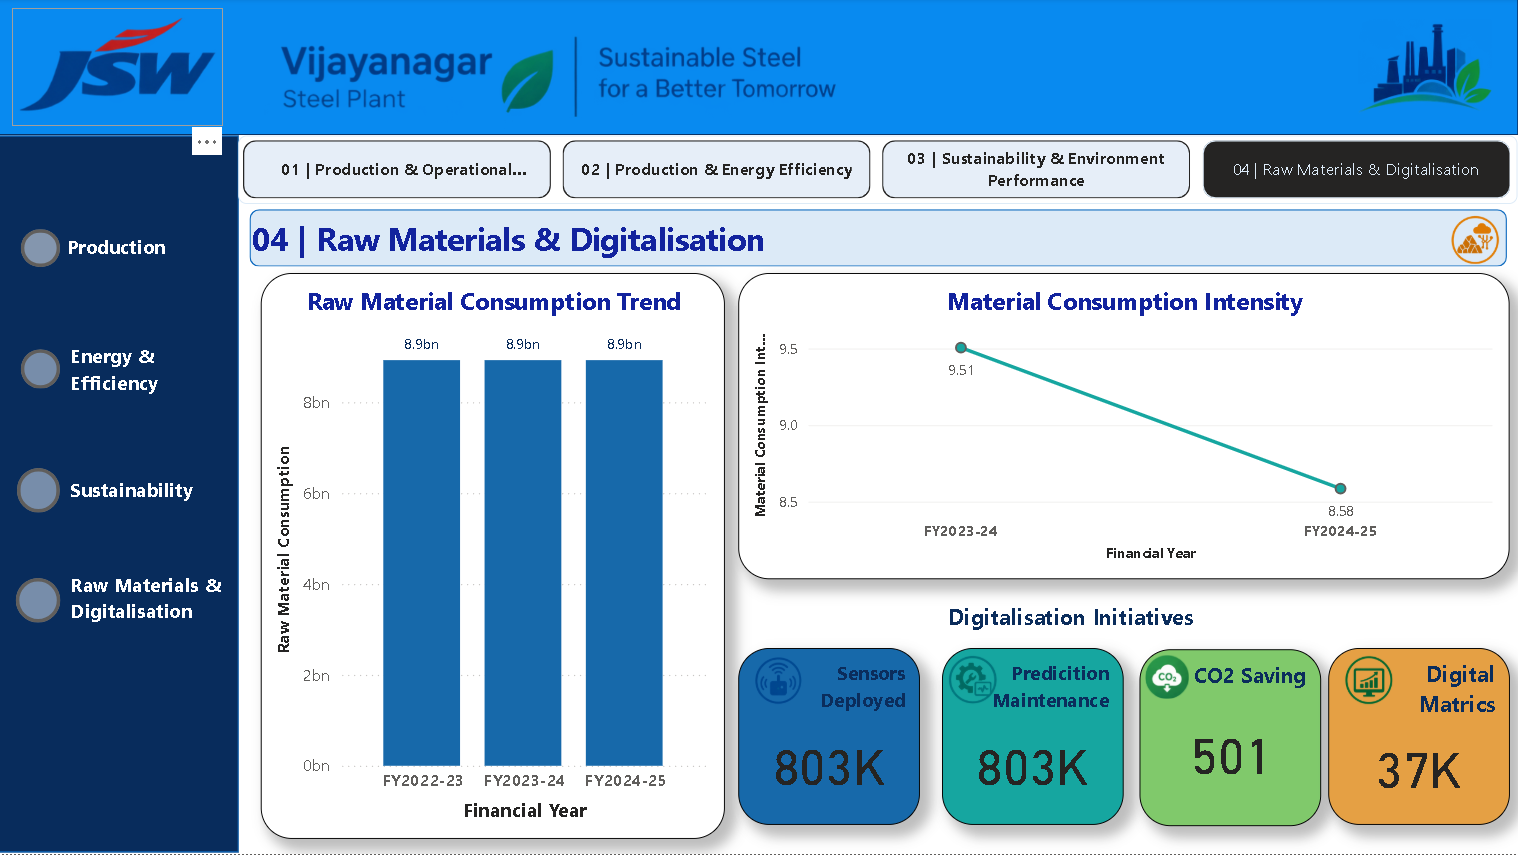

The page's visual inventory and layout, read from the dashboard file:
{"tool":"powerbi","page":{"name":"04 | Raw Materials & Digitalisation","canvas":[1280,720],"ordinal":3},"visuals":[{"type":"clusteredColumnChart","title":"Raw Material Consumption Trend","fields":{"Category":["Dim FY.FY"],"Y":["Sum(Raw_Materials.Consumption_t)"]},"box":[221.8,231.3,390.1,476.3],"z":0},{"type":"lineChart","title":"Material Consumption Intensity ","fields":{"Category":["Dim FY.FY"],"Y":["Raw_Materials.Material Consumption Intensity"]},"box":[623.5,231.3,648.7,257.6],"z":1000},{"type":"card","title":"Predicition Maintenance","fields":{"Values":["Sum(Digitalisation.Value)"]},"box":[795,546.8,152.9,148.6],"z":2000},{"type":"card","title":"Sensors Deployed","fields":{"Values":["Sum(Digitalisation.Value)"]},"box":[623.3,546.8,153,148.6],"z":3000},{"type":"card","title":"CO2 Saving","fields":{"Values":["Sum(Digitalisation.Value)"]},"box":[960.9,548.2,152.9,148.6],"z":4000},{"type":"card","title":"Digital Matrics","fields":{"Values":["Sum(Digitalisation.Value)"]},"box":[1119.6,546.8,152.9,148.6],"z":5000},{"type":"shape","box":[0,115.4,203.4,603.1],"z":6000},{"type":"shape","box":[0,0,1279.7,115.4],"z":7000},{"type":"shape","box":[212.4,177.7,1057.7,48.4],"z":8000},{"type":"textbox","box":[795,502.1,230.8,44.7],"z":9000},{"type":"actionButton","box":[20.2,194.8,33.2,31.7],"z":10000},{"type":"actionButton","box":[20.2,295.8,33.2,33.2],"z":11000},{"type":"actionButton","box":[17.3,395.3,36.1,37.5],"z":12000},{"type":"actionButton","box":[15.9,487.7,37.5,37.5],"z":13000},{"type":"textbox","box":[53.4,191.9,103.9,39],"z":14000},{"type":"textbox","box":[56.3,284.2,102.4,59.2],"z":15000},{"type":"textbox","box":[56.3,396.8,124.1,46.2],"z":16000},{"type":"textbox","box":[56.3,476.1,147.2,60.6],"z":17000},{"type":"pageNavigator","box":[203.4,115.4,1076.3,57.7],"z":18000},{"type":"image","box":[13,8.7,177.5,98.1],"z":19000},{"type":"image","box":[129.8,0,411.2,115.4],"z":20000},{"type":"image","box":[1139.8,0,122.6,115.4],"z":21000},{"type":"image","box":[414.1,0,300.1,127],"z":22000},{"type":"image","box":[961,547.8,46.3,46.3],"z":23000},{"type":"image","box":[1128.2,547.8,52.6,52.6],"z":24000},{"type":"image","box":[794.9,547.8,52.6,52.6],"z":25000},{"type":"image","box":[631.9,547.8,52.6,52.6],"z":26000},{"type":"image","box":[1217.5,177.7,52.6,52.6],"z":27000}]}

Visuals, with their boxes on the page's 1280x720 design canvas (x1, y1, x2, y2). These are canvas units, not pixel positions in the 1518x855 screenshot, which may show the page scaled, cropped or inside an application window:
"Raw Material Consumption Trend" clusteredColumnChart: <bbox>222, 231, 612, 708</bbox>
"Material Consumption Intensity " lineChart: <bbox>624, 231, 1272, 489</bbox>
"Predicition Maintenance" card: <bbox>795, 547, 948, 695</bbox>
"Sensors Deployed" card: <bbox>623, 547, 776, 695</bbox>
"CO2 Saving" card: <bbox>961, 548, 1114, 697</bbox>
"Digital Matrics" card: <bbox>1120, 547, 1272, 695</bbox>
shape: <bbox>0, 115, 203, 718</bbox>
shape: <bbox>0, 0, 1280, 115</bbox>
shape: <bbox>212, 178, 1270, 226</bbox>
textbox: <bbox>795, 502, 1026, 547</bbox>
actionButton: <bbox>20, 195, 53, 226</bbox>
actionButton: <bbox>20, 296, 53, 329</bbox>
actionButton: <bbox>17, 395, 53, 433</bbox>
actionButton: <bbox>16, 488, 53, 525</bbox>
textbox: <bbox>53, 192, 157, 231</bbox>
textbox: <bbox>56, 284, 159, 343</bbox>
textbox: <bbox>56, 397, 180, 443</bbox>
textbox: <bbox>56, 476, 204, 537</bbox>
pageNavigator: <bbox>203, 115, 1280, 173</bbox>
image: <bbox>13, 9, 190, 107</bbox>
image: <bbox>130, 0, 541, 115</bbox>
image: <bbox>1140, 0, 1262, 115</bbox>
image: <bbox>414, 0, 714, 127</bbox>
image: <bbox>961, 548, 1007, 594</bbox>
image: <bbox>1128, 548, 1181, 600</bbox>
image: <bbox>795, 548, 848, 600</bbox>
image: <bbox>632, 548, 684, 600</bbox>
image: <bbox>1218, 178, 1270, 230</bbox>
